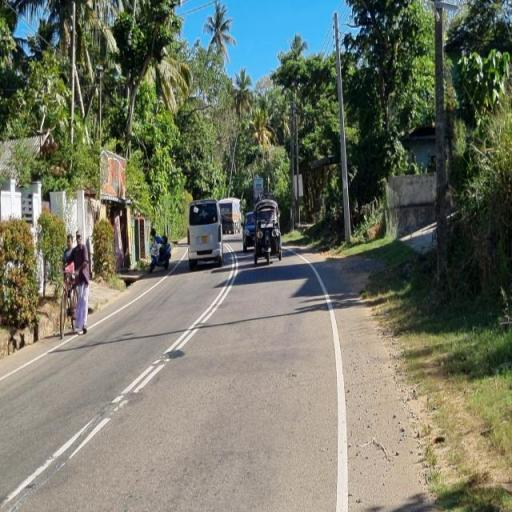double_white_line: (110, 242, 236, 411)
